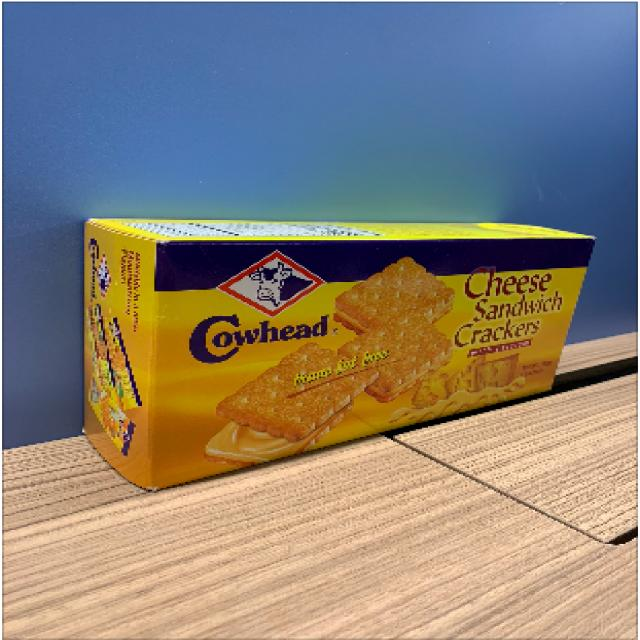object_name: (104, 224, 557, 390)
